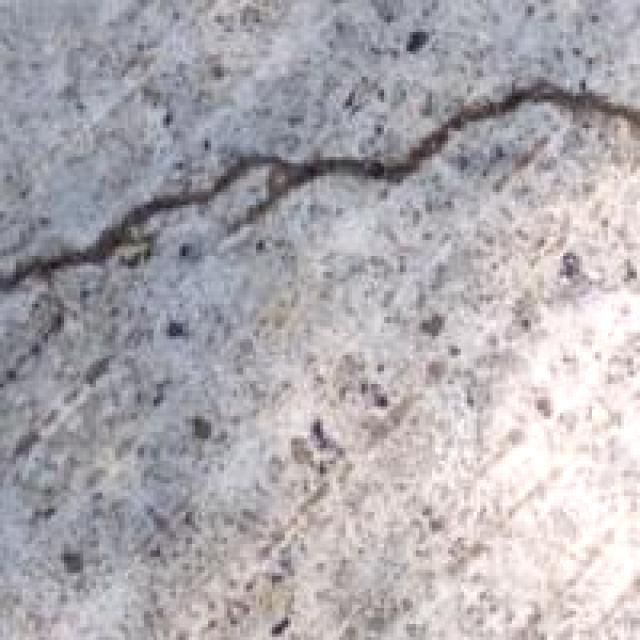crack: (0, 64, 640, 286)
